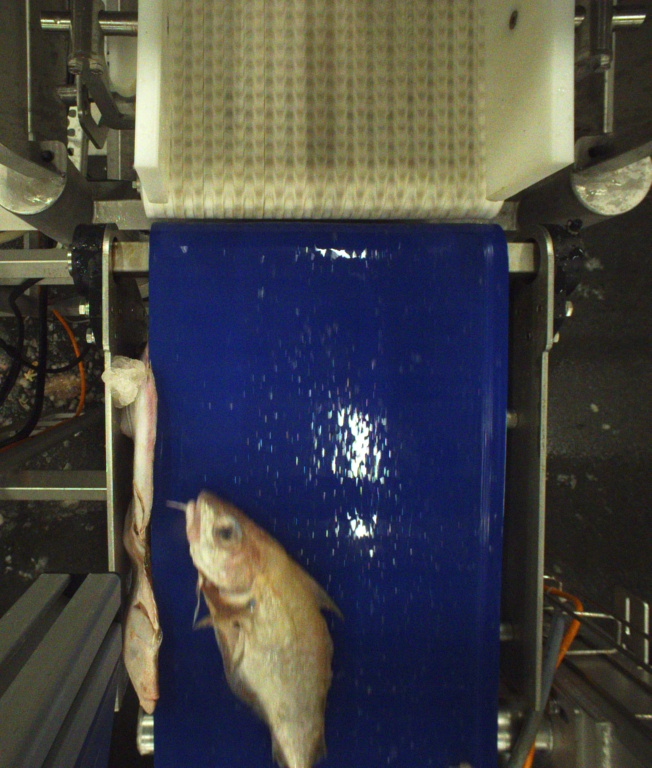BIB: (166, 492, 342, 768)
